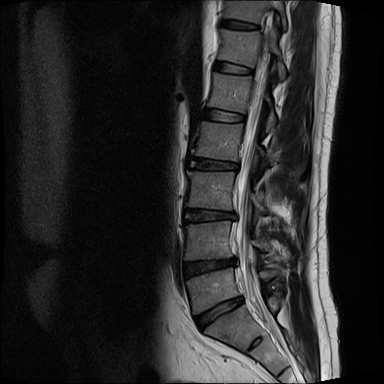Lumbar Disc Bulge (LDB): (188, 290, 252, 337), (179, 251, 244, 283), (179, 205, 243, 226), (189, 154, 243, 175)
Normal IVD: (198, 101, 248, 127), (208, 58, 255, 79), (217, 17, 262, 34)
Spinal Stenosis (SS): (235, 288, 250, 310), (227, 250, 243, 270), (229, 157, 244, 178), (230, 206, 242, 223)
